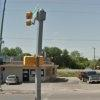Car: (73, 64, 100, 91)
